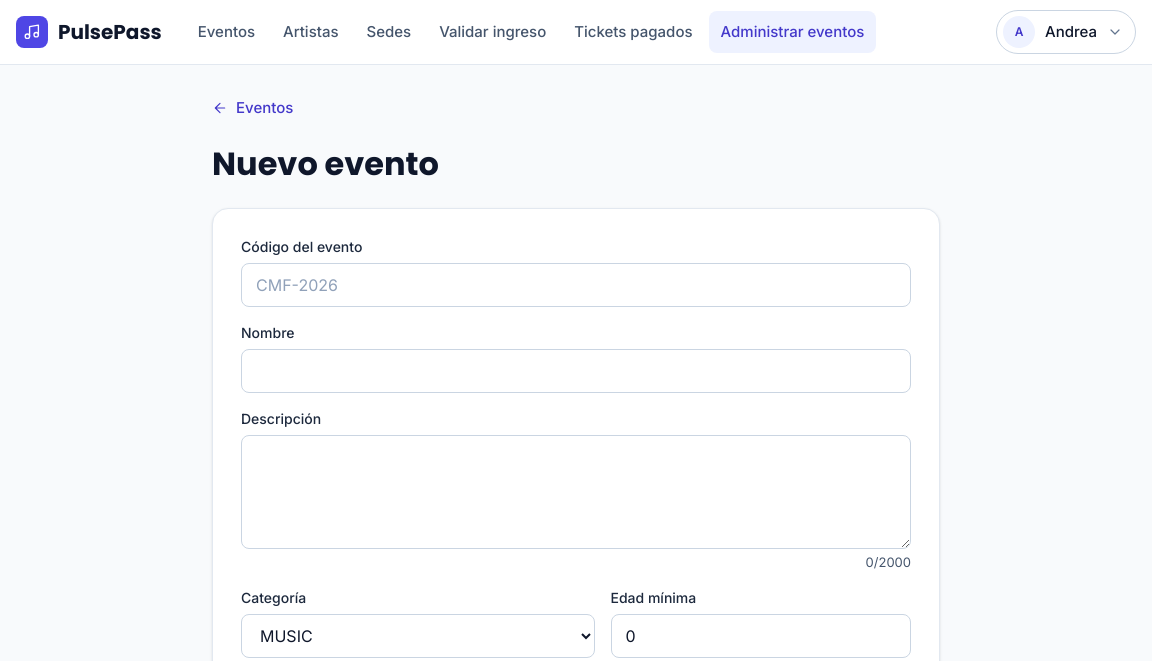
Administración de eventos (ADMIN) › TEST-FE-ADM-004: un código repetido (409) se muestra arriba del formulario
Type "jzz-2026" into the field labelled "Código del evento" at (576, 284), box [241,262,911,306]
Type "Jazz al Parque" into the field labelled "Nombre" at (576, 370), box [241,348,911,392]
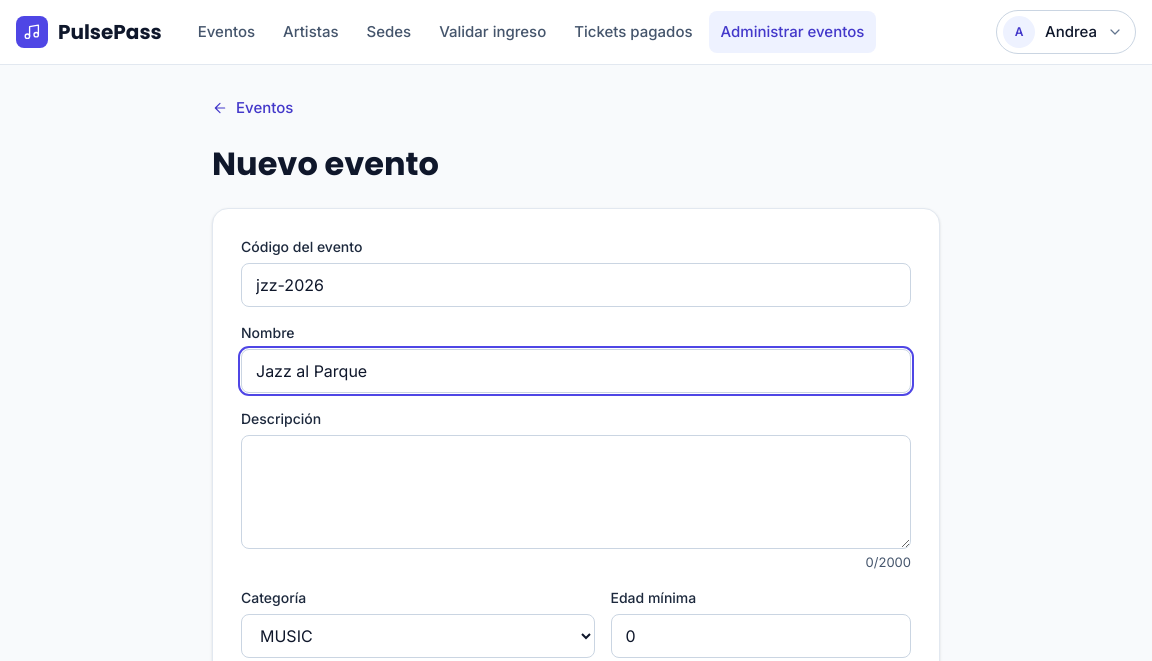
Select "CULTURE" in the dropdown labelled "Categoría" at (418, 636), box [241,614,594,658]
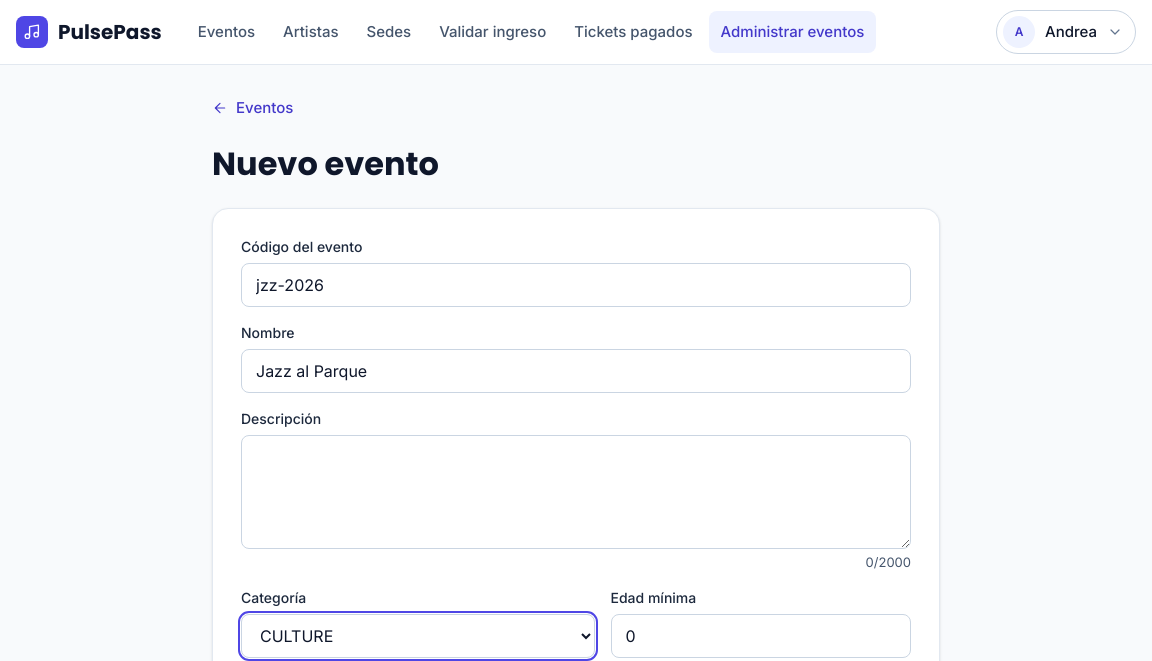
Replace the text in the number field labelled "Edad mínima" with "18" at (761, 636), box [610,614,911,658]
(page scrolled)
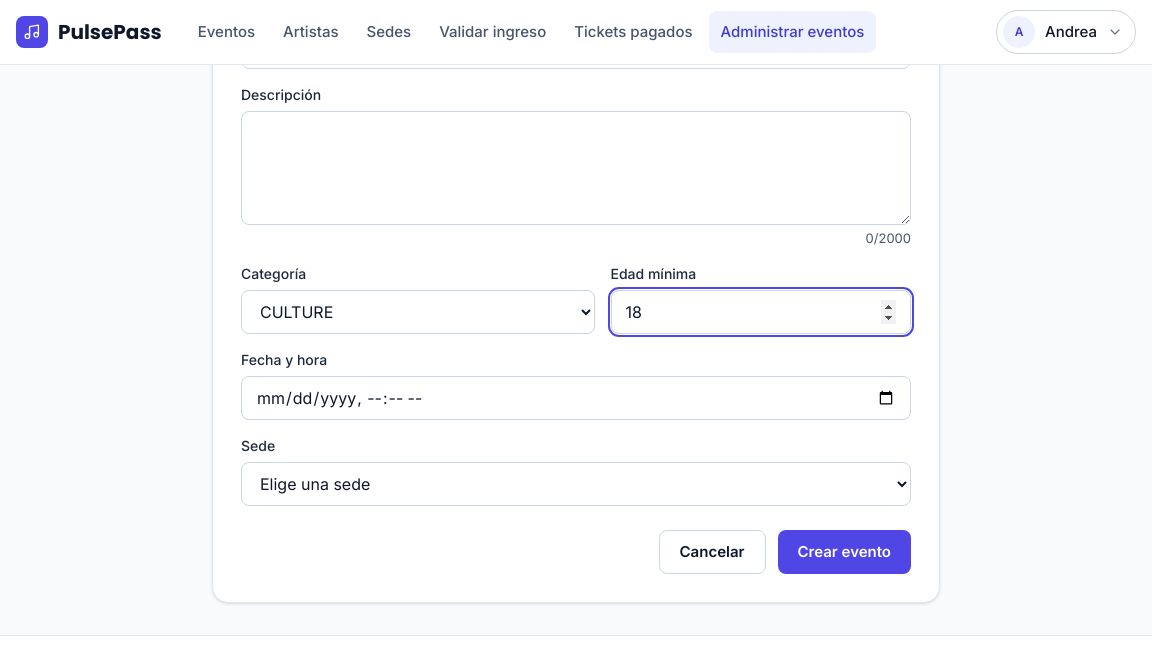
Type "2026-12-20T20:00" into the field labelled "Fecha y hora" at (576, 398), box [241,376,911,420]
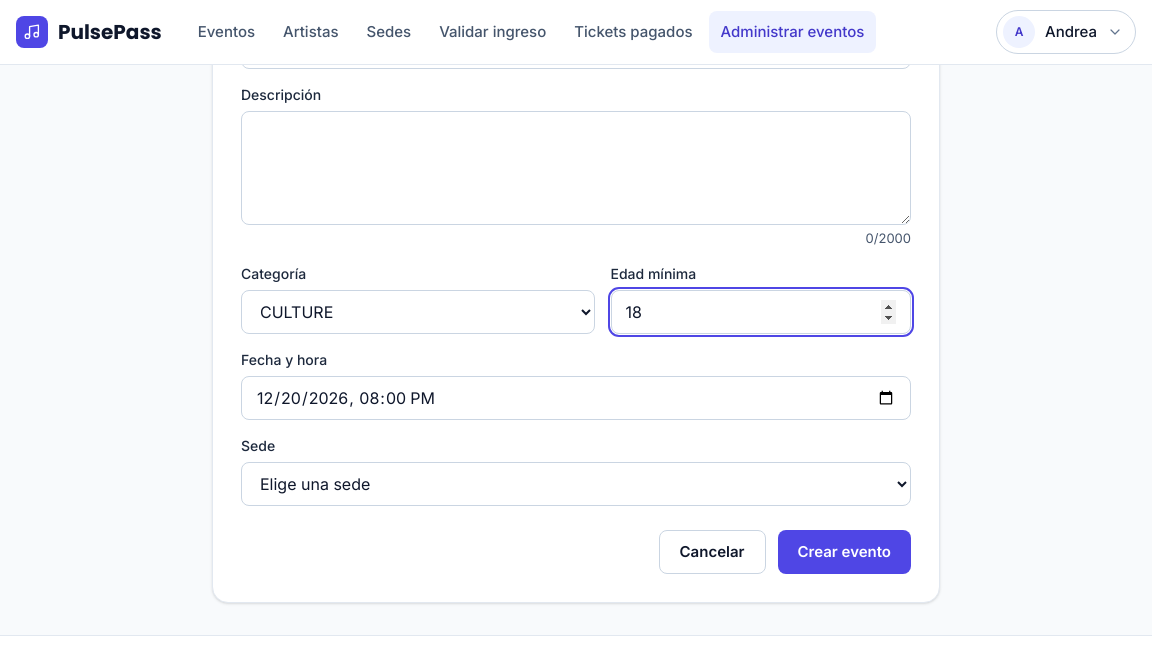
Select "Marina Convention Center (VEN-SMR-01)" in the dropdown labelled "Sede" at (576, 484), box [241,462,911,506]
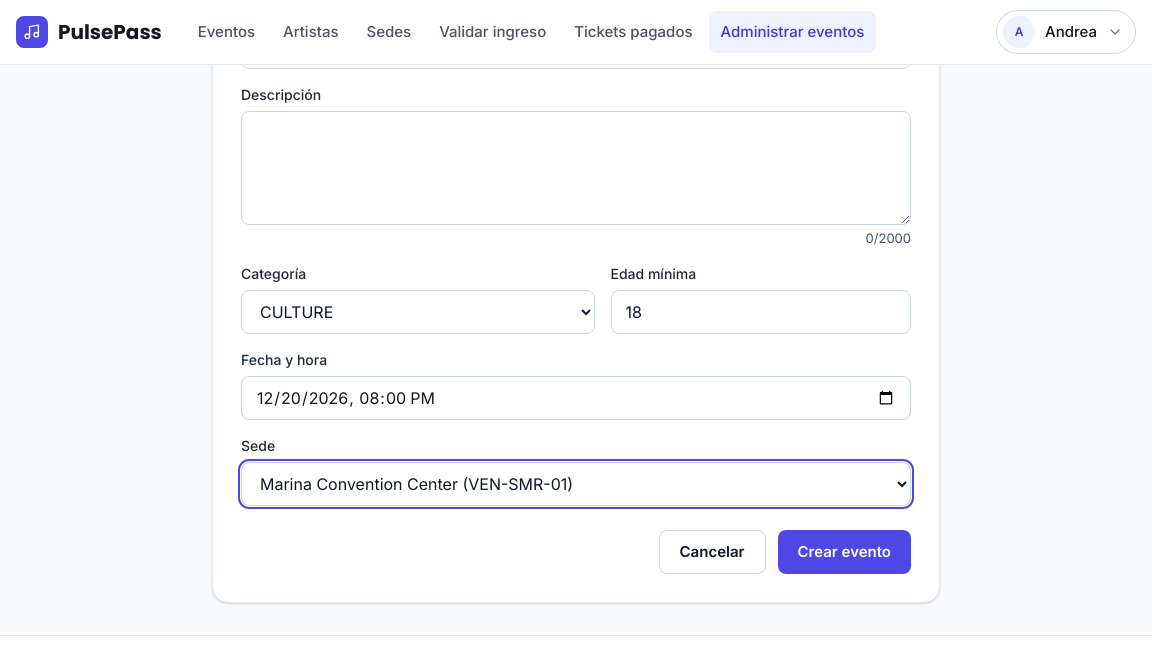
Click the button "Crear evento" at (844, 552), box [778,530,911,574]
(page scrolled)
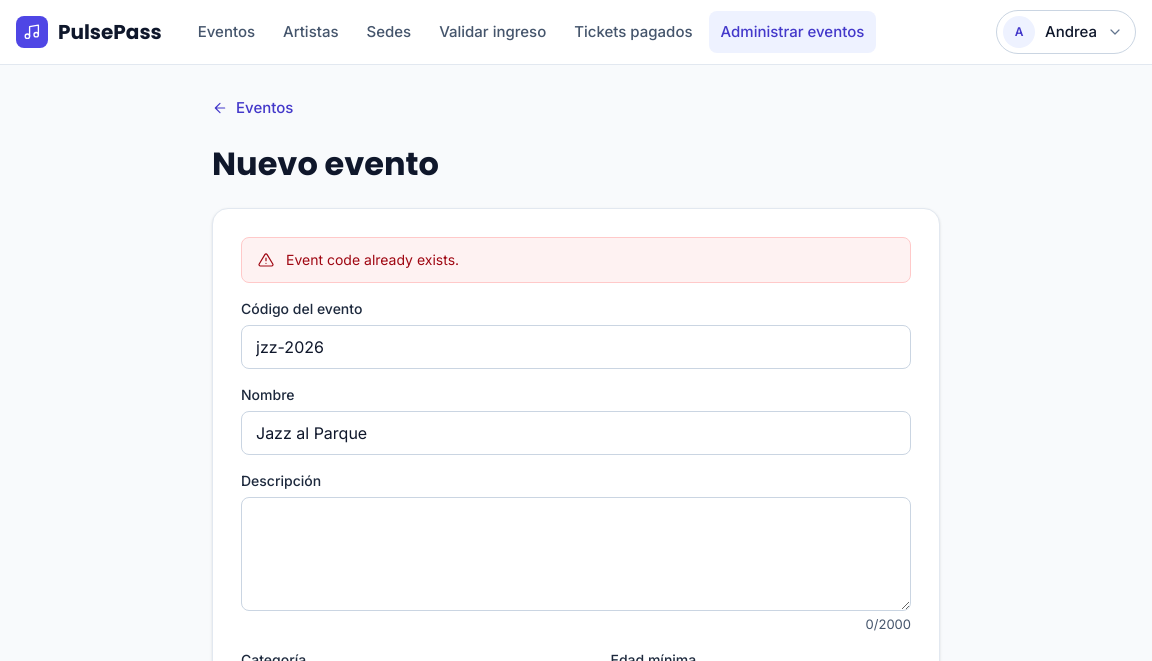
Expected: the text "Event code already exists." is shown, [286,250,459,270]
